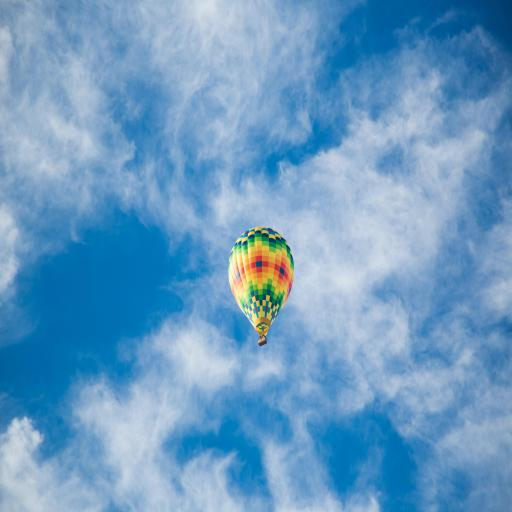hot air ballon: (228, 227, 294, 347)
